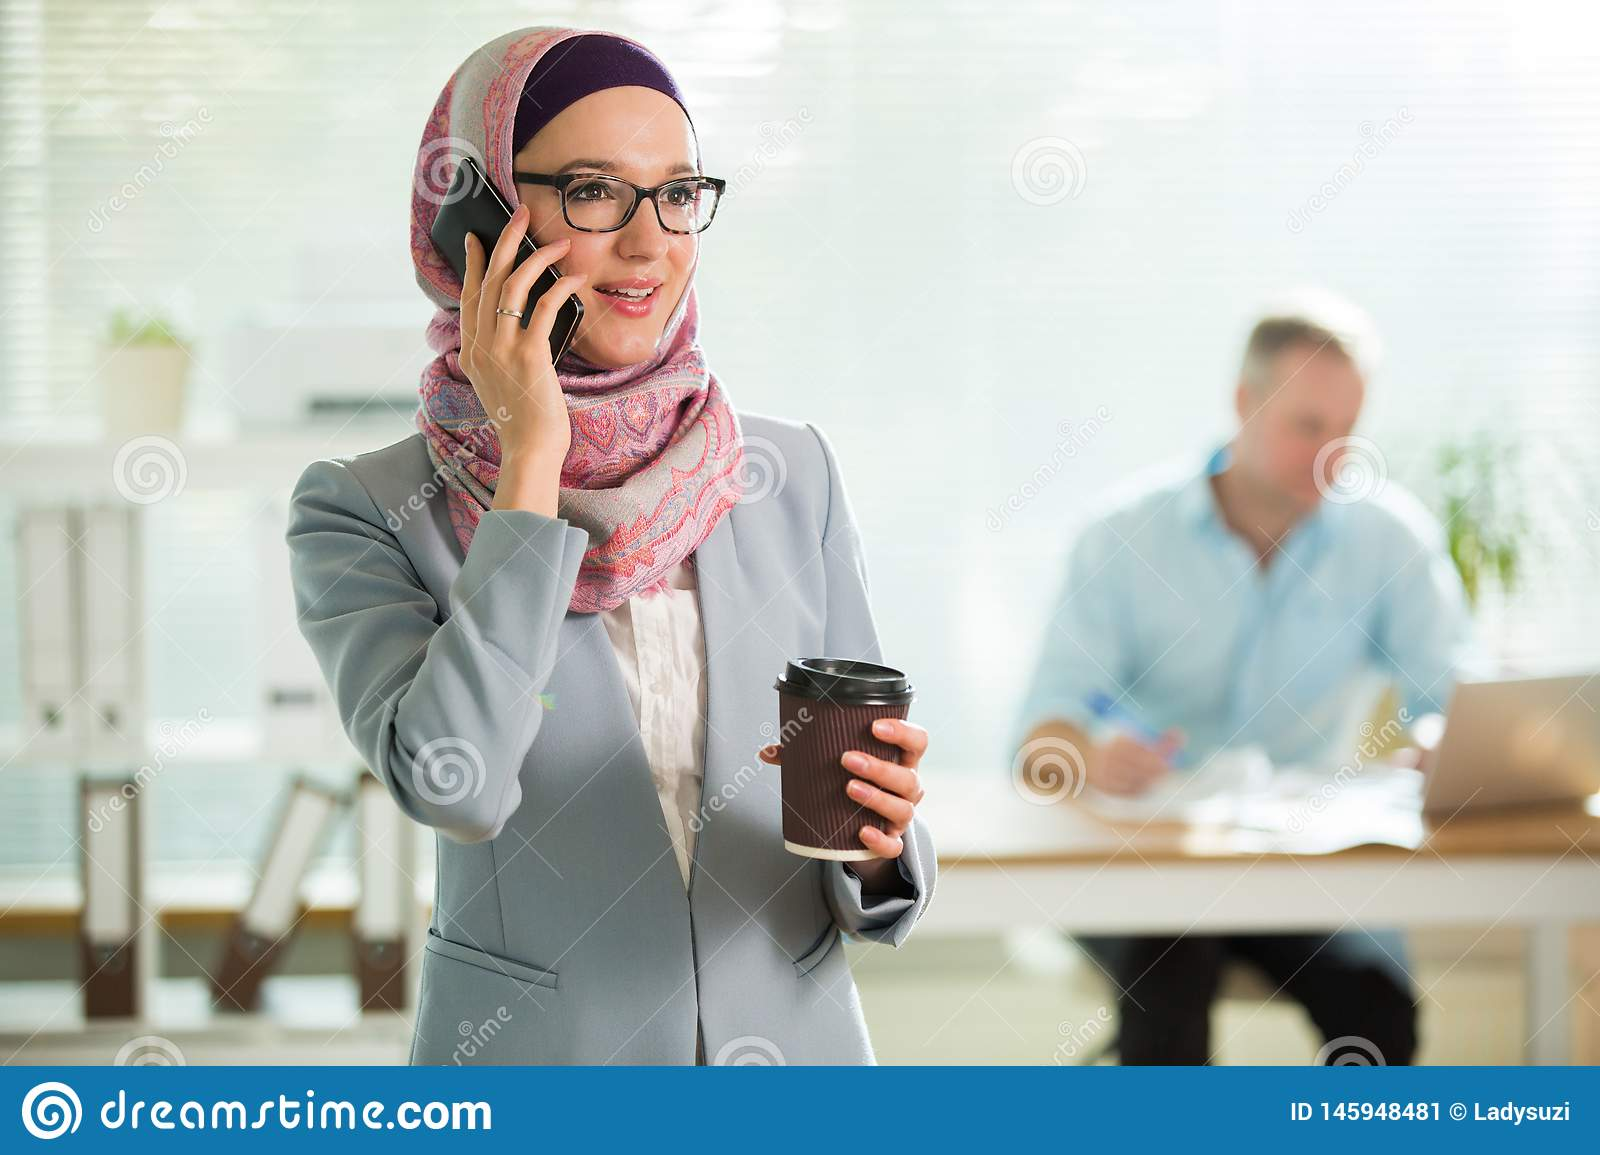helmet: (424, 133, 699, 488)
phone: (431, 160, 593, 385)
